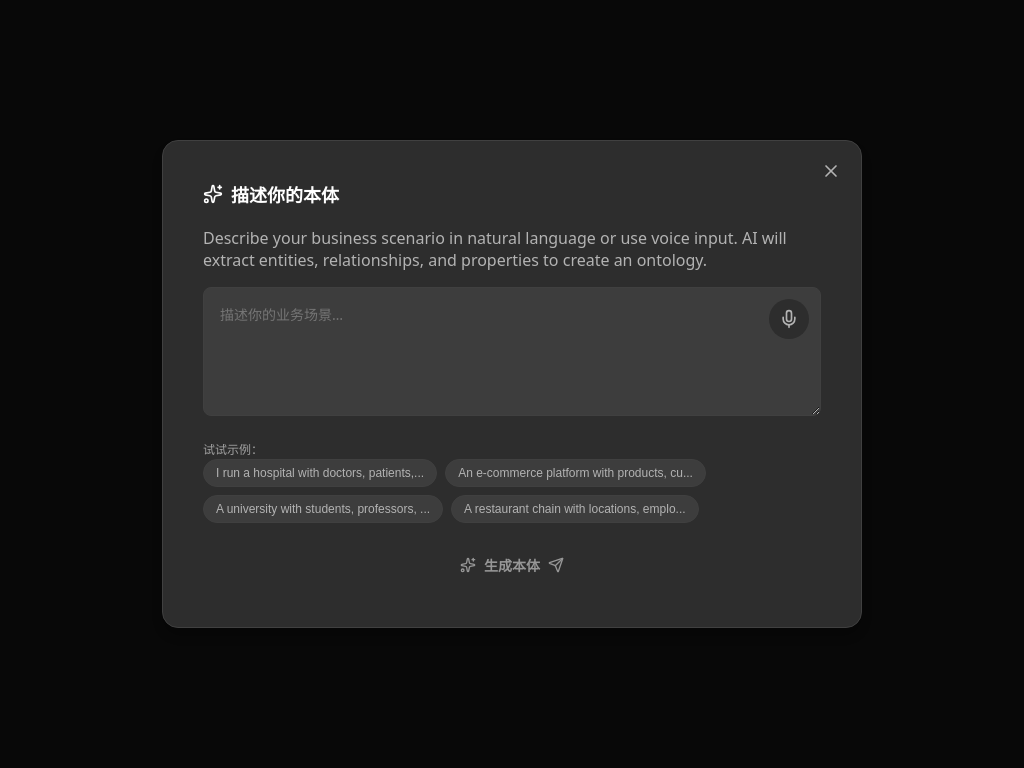
Test: NLBuilderModal validation › rejects invalid generated ontologies before previewing them
The image size is (1024, 768).
Type "Track products in inventory" into the text box with placeholder "描述你的业务场景…" at {"x": 512, "y": 352}, box [203,287,821,416]
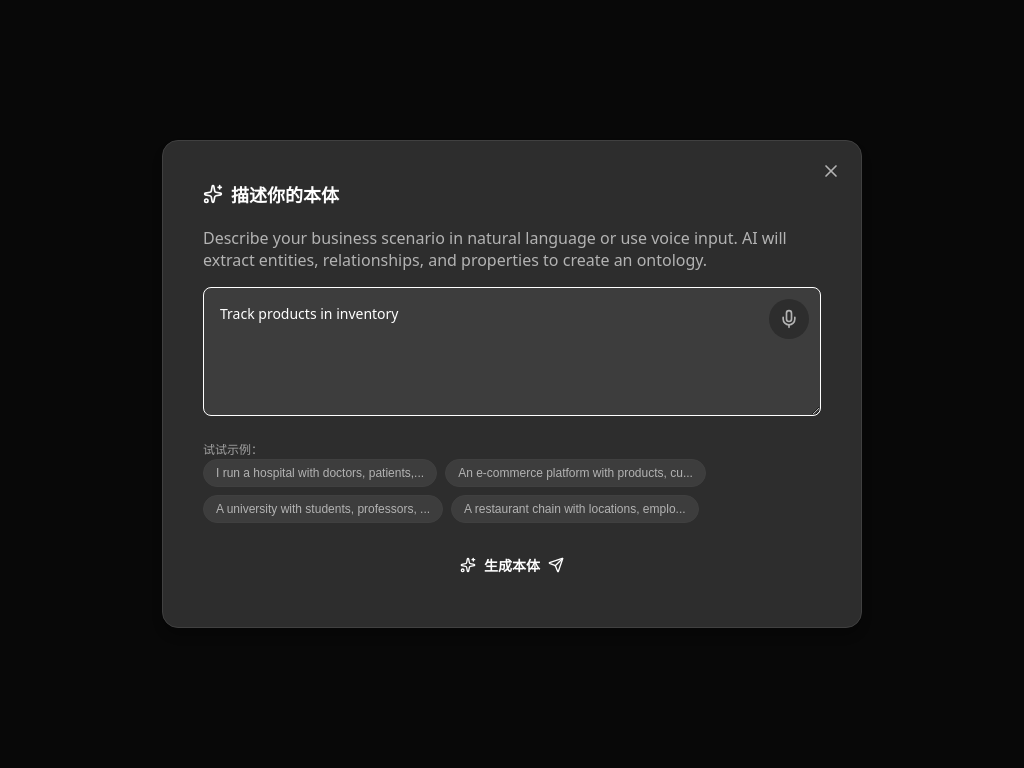
Click the button "生成本体" at {"x": 512, "y": 565}, box [203,543,821,587]
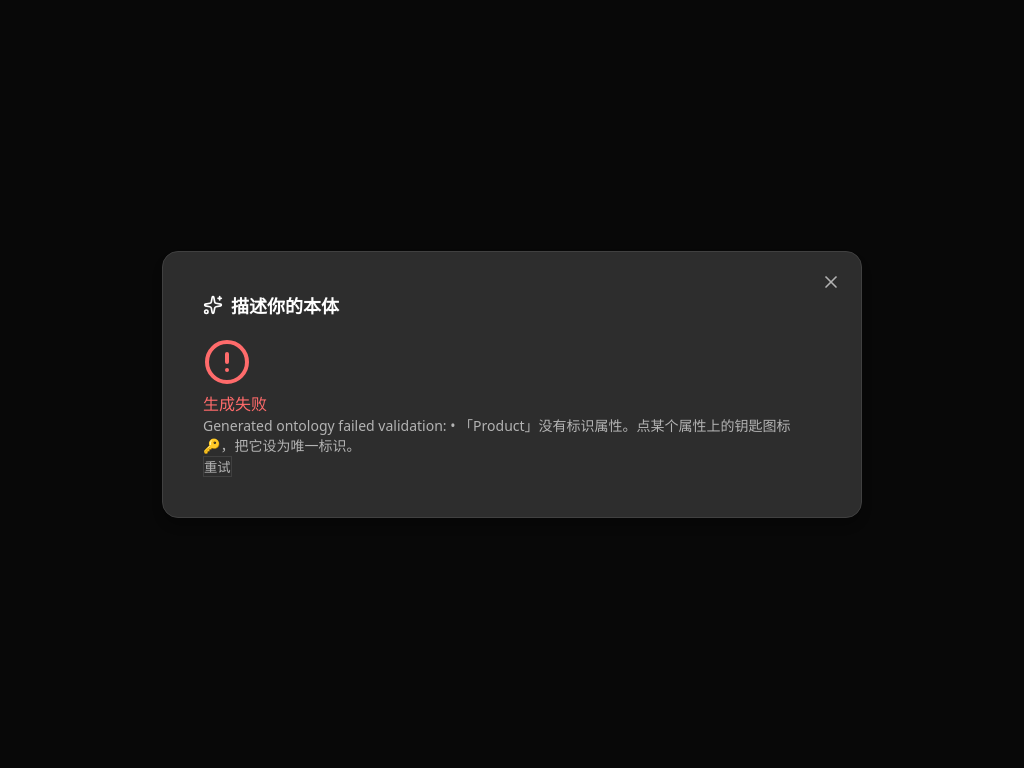
Result: the text "生成失败" is shown at [203,392,267,414]
Result: the text "没有标识属性" is shown at [203,416,791,454]
